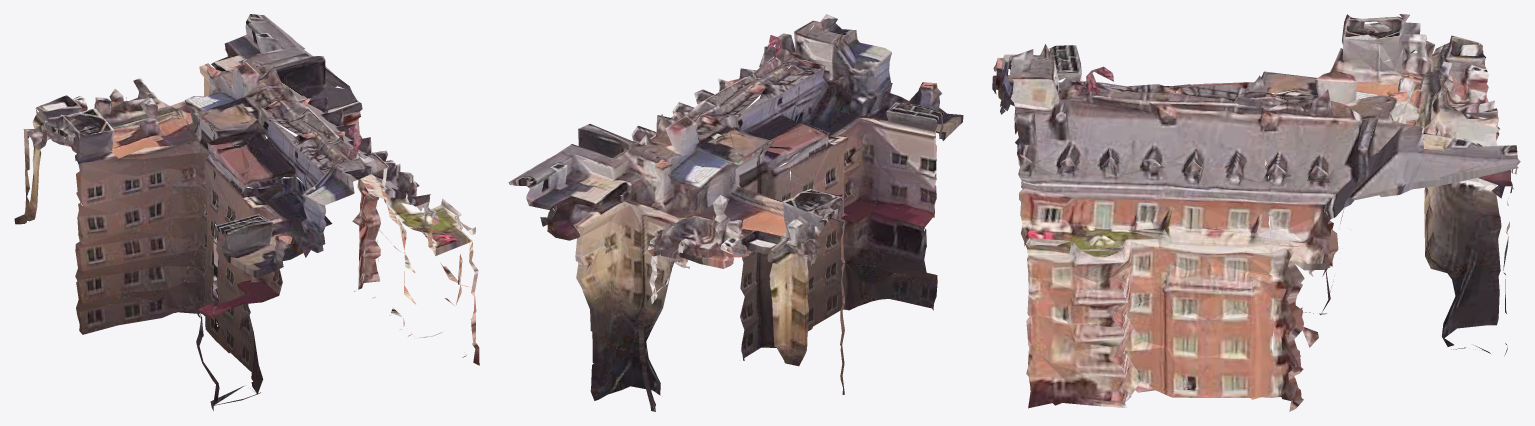
The picture shows the model from 3 angles, left to right: view 1: azimuth 30°, elevation 25°; view 2: azimuth 150°, elevation 25°; view 3: azimuth 270°, elevation 25°; orthographic projection. The views are drawn at different scales.
Visible parts, largest first — view 1: Mesh_0; view 2: Mesh_0; view 3: Mesh_0.
Boxes of the visible parts, <box> form: Mesh_0: <box>14,14,479,410</box>; Mesh_0: <box>508,14,963,411</box>; Mesh_0: <box>992,14,1520,411</box>.
Bounding box in the file's own units: 31.08 × 25.2 × 41.38.
2 materials, 2 textured.
